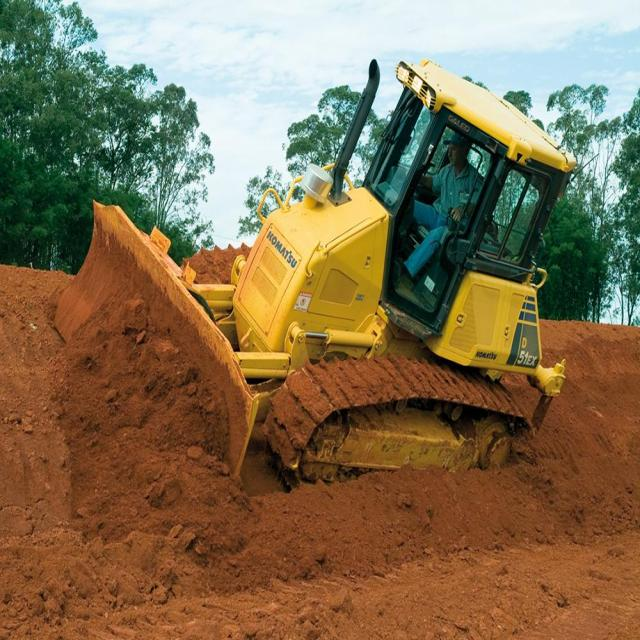Bulldozer: (49, 41, 572, 500)
